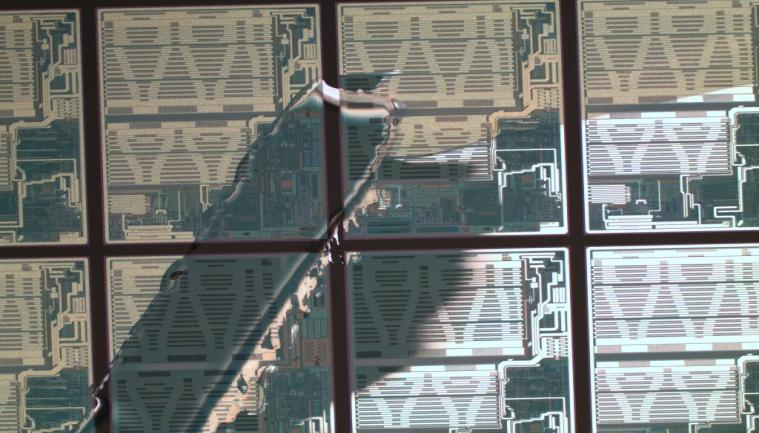BLOCK ETCH: (71, 83, 399, 433)
